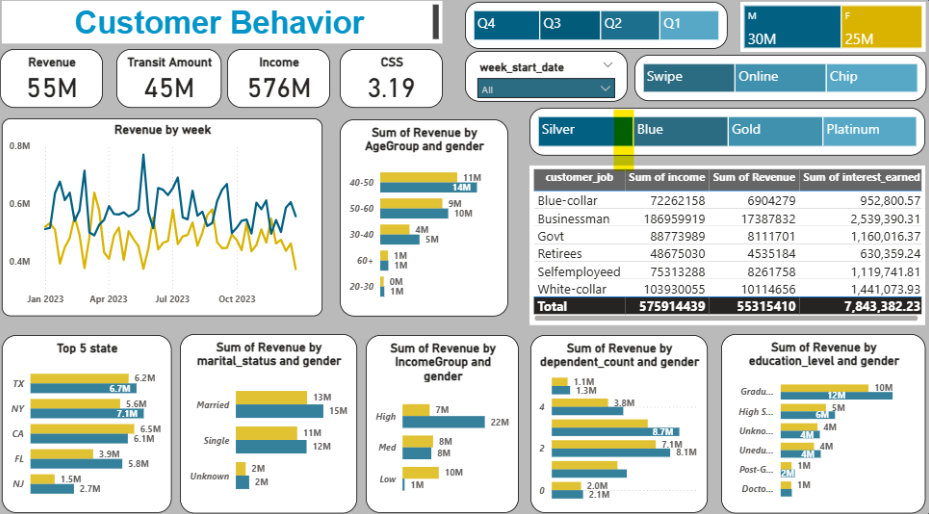

Layout of this report page (visuals, bound fields, positions):
{"tool":"powerbi","page":{"name":"cc_customer","canvas":[1280,720],"ordinal":3},"visuals":[{"type":"clusteredBarChart","fields":{"Y":["Sum(credit_card_usage credit_card.Revenue)"],"Category":["credit_card_usage customer.IncomeGroup"],"Series":["credit_card_usage customer.gender"]},"box":[505.1,462.7,208.5,242.4],"z":1},{"type":"card","title":"Revenue","fields":{"Values":["Sum(credit_card_usage credit_card.Revenue)"]},"box":[8.4,73.7,140,80],"z":2},{"type":"card","title":"Transit Amount","fields":{"Values":["Sum(credit_card_usage credit_card.total_trans_amt)"]},"box":[169.6,72.5,140,80],"z":3},{"type":"card","title":"CSS","fields":{"Values":["Avg(credit_card_usage customer.satisfaction_score)"]},"box":[470.1,73.7,140,80],"z":4},{"type":"card","title":"Income","fields":{"Values":["Sum(credit_card_usage customer.income)"]},"box":[316.7,73.7,140,80],"z":5},{"type":"slicer","fields":{"Values":["credit_card_usage credit_card.week_start_date"]},"box":[640,76,221,69],"z":6},{"type":"treemap","fields":{"Group":["credit_card_usage credit_card.quarter"],"Values":["Avg(credit_card_usage credit_card.client_num)"]},"box":[640,9,357,64],"z":7},{"type":"treemap","fields":{"Values":["Avg(credit_card_usage credit_card.client_num)"],"Group":["credit_card_usage credit_card.card_category"]},"box":[728.2,153.4,538.4,64.6],"z":9},{"type":"tableEx","fields":{"Values":["credit_card_usage customer.customer_job","Sum(credit_card_usage customer.income)","Sum(credit_card_usage credit_card.Revenue)","Sum(credit_card_usage credit_card.interest_earned)"]},"box":[728.2,231.5,538.4,216.7],"z":11},{"type":"textbox","box":[10,8,599,58],"z":12},{"type":"lineChart","title":"Revenue by week","fields":{"Y":["Sum(credit_card_usage credit_card.Revenue)"],"Series":["credit_card_usage customer.gender"],"Category":["credit_card_usage credit_card.week_start_date.Variation.Date Hierarchy.Year","credit_card_usage credit_card.week_start_date.Variation.Date Hierarchy.Month","credit_card_usage credit_card.week_start_date.Variation.Date Hierarchy.Day"]},"box":[10.2,167.8,435.6,269.5],"z":13},{"type":"treemap","fields":{"Group":["credit_card_usage customer.gender"],"Values":["Sum(credit_card_usage credit_card.Revenue)"]},"box":[1015,9,252,68],"z":14},{"type":"clusteredBarChart","fields":{"Y":["Sum(credit_card_usage credit_card.Revenue)"],"Category":["credit_card_usage customer.AgeGroup"],"Series":["credit_card_usage customer.gender"]},"box":[469.8,168.3,228.6,268.3],"z":15},{"type":"clusteredBarChart","fields":{"Y":["Sum(credit_card_usage credit_card.Revenue)"],"Category":["credit_card_usage customer.dependent_count"],"Series":["credit_card_usage customer.gender"]},"box":[728.8,462.7,240.7,242.4],"z":16},{"type":"clusteredBarChart","fields":{"Y":["Sum(credit_card_usage credit_card.Revenue)"],"Category":["credit_card_usage customer.education_level"],"Series":["credit_card_usage customer.gender"]},"box":[988.1,461,278,244.1],"z":18},{"type":"clusteredBarChart","title":"Top 5 state","fields":{"Y":["Sum(credit_card_usage credit_card.Revenue)"],"Category":["credit_card_usage customer.state_code"],"Series":["credit_card_usage customer.gender"]},"box":[10.2,462.7,230.5,242.4],"z":19},{"type":"clusteredBarChart","fields":{"Y":["Sum(credit_card_usage credit_card.Revenue)"],"Category":["credit_card_usage customer.marital_status"],"Series":["credit_card_usage customer.gender"]},"box":[252.5,461,240.7,244.1],"z":20},{"type":"treemap","fields":{"Values":["Avg(credit_card_usage credit_card.client_num)"],"Group":["credit_card_usage credit_card.use_chip"]},"box":[870,81,397,63],"z":21}]}

Visuals, with their boxes in screenshot pixels (x1, y1, x2, y2), scaled from the page's 1280x720 canvas onto the 929x514 screenshot:
clusteredBarChart - Sum(credit_card_usage credit_card.Revenue) x credit_card_usage customer.IncomeGroup: bbox(367, 330, 518, 503)
"Revenue" card: bbox(6, 53, 108, 110)
"Transit Amount" card: bbox(123, 52, 225, 109)
"CSS" card: bbox(341, 53, 443, 110)
"Income" card: bbox(230, 53, 331, 110)
slicer - credit_card_usage credit_card.week_start_date: bbox(464, 54, 625, 104)
treemap - credit_card_usage credit_card.quarter x Avg(credit_card_usage credit_card.client_num): bbox(464, 6, 724, 52)
treemap - Avg(credit_card_usage credit_card.client_num) x credit_card_usage credit_card.card_category: bbox(529, 110, 919, 156)
tableEx - credit_card_usage customer.customer_job x Sum(credit_card_usage customer.income): bbox(529, 165, 919, 320)
textbox: bbox(7, 6, 442, 47)
"Revenue by week" lineChart: bbox(7, 120, 324, 312)
treemap - credit_card_usage customer.gender x Sum(credit_card_usage credit_card.Revenue): bbox(737, 6, 920, 55)
clusteredBarChart - Sum(credit_card_usage credit_card.Revenue) x credit_card_usage customer.AgeGroup: bbox(341, 120, 507, 312)
clusteredBarChart - Sum(credit_card_usage credit_card.Revenue) x credit_card_usage customer.dependent_count: bbox(529, 330, 704, 503)
clusteredBarChart - Sum(credit_card_usage credit_card.Revenue) x credit_card_usage customer.education_level: bbox(717, 329, 919, 503)
"Top 5 state" clusteredBarChart: bbox(7, 330, 175, 503)
clusteredBarChart - Sum(credit_card_usage credit_card.Revenue) x credit_card_usage customer.marital_status: bbox(183, 329, 358, 503)
treemap - Avg(credit_card_usage credit_card.client_num) x credit_card_usage credit_card.use_chip: bbox(631, 58, 920, 103)
